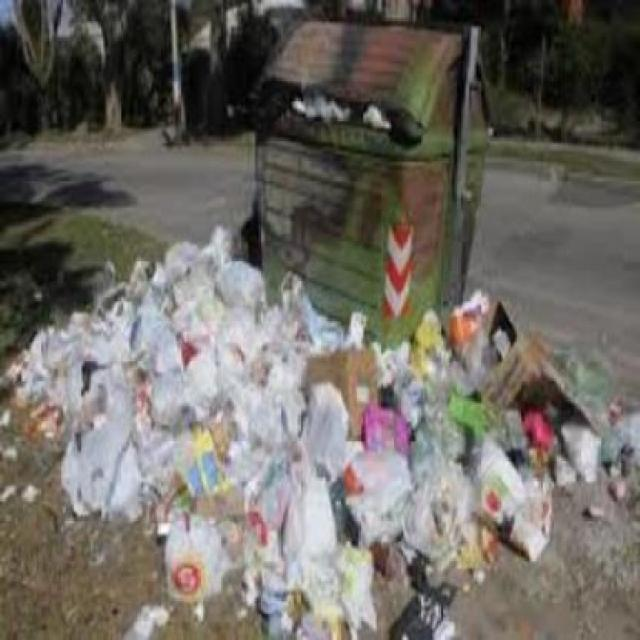garbage: (63, 258, 624, 636), (20, 295, 62, 520), (260, 94, 420, 142)
